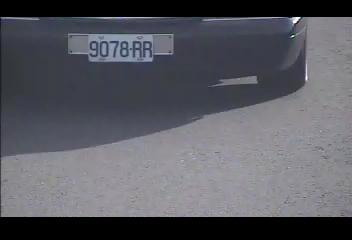plate: (86, 31, 155, 63)
